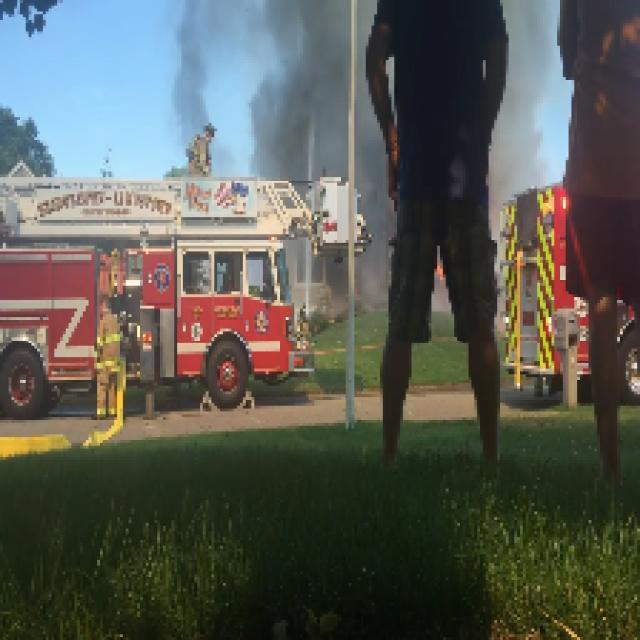Fire: (434, 266, 440, 274)
Smoke: (175, 3, 554, 320)
